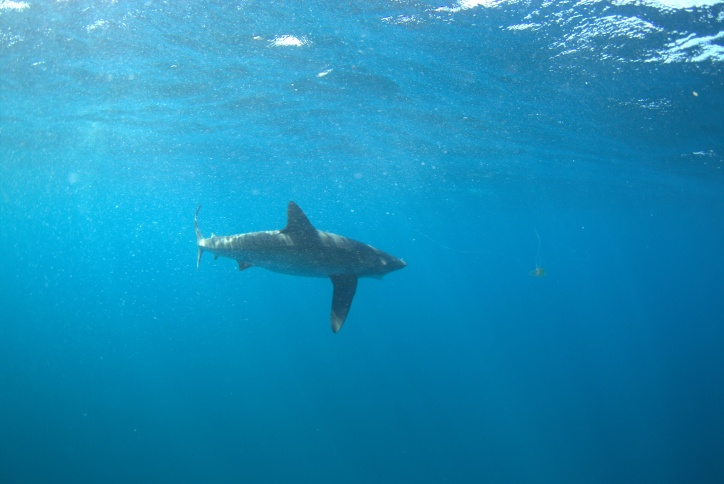Sedoso: (136, 199, 411, 335)
